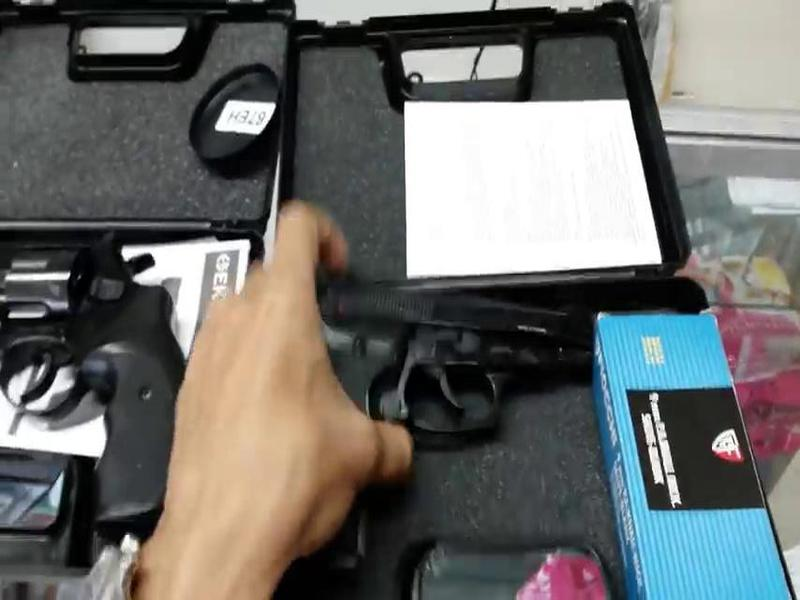Pistola: (277, 240, 637, 570)
